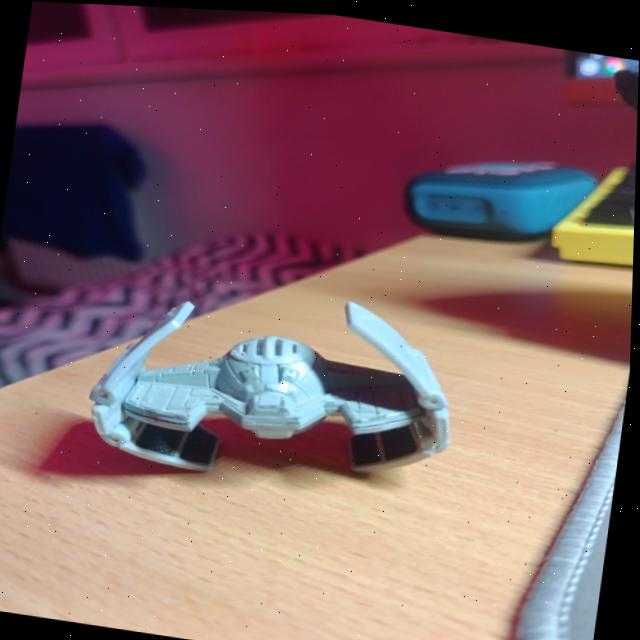tie fighter: (93, 299, 451, 467), (366, 399, 371, 400)
